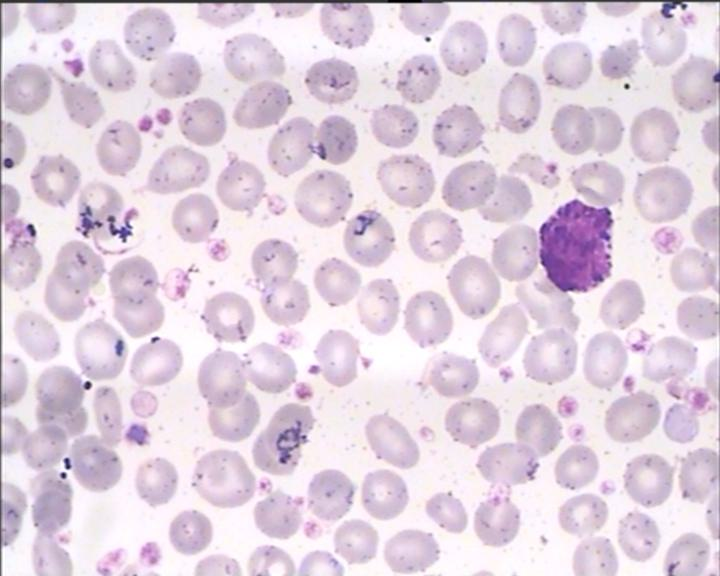baso: (533, 194, 619, 294)
